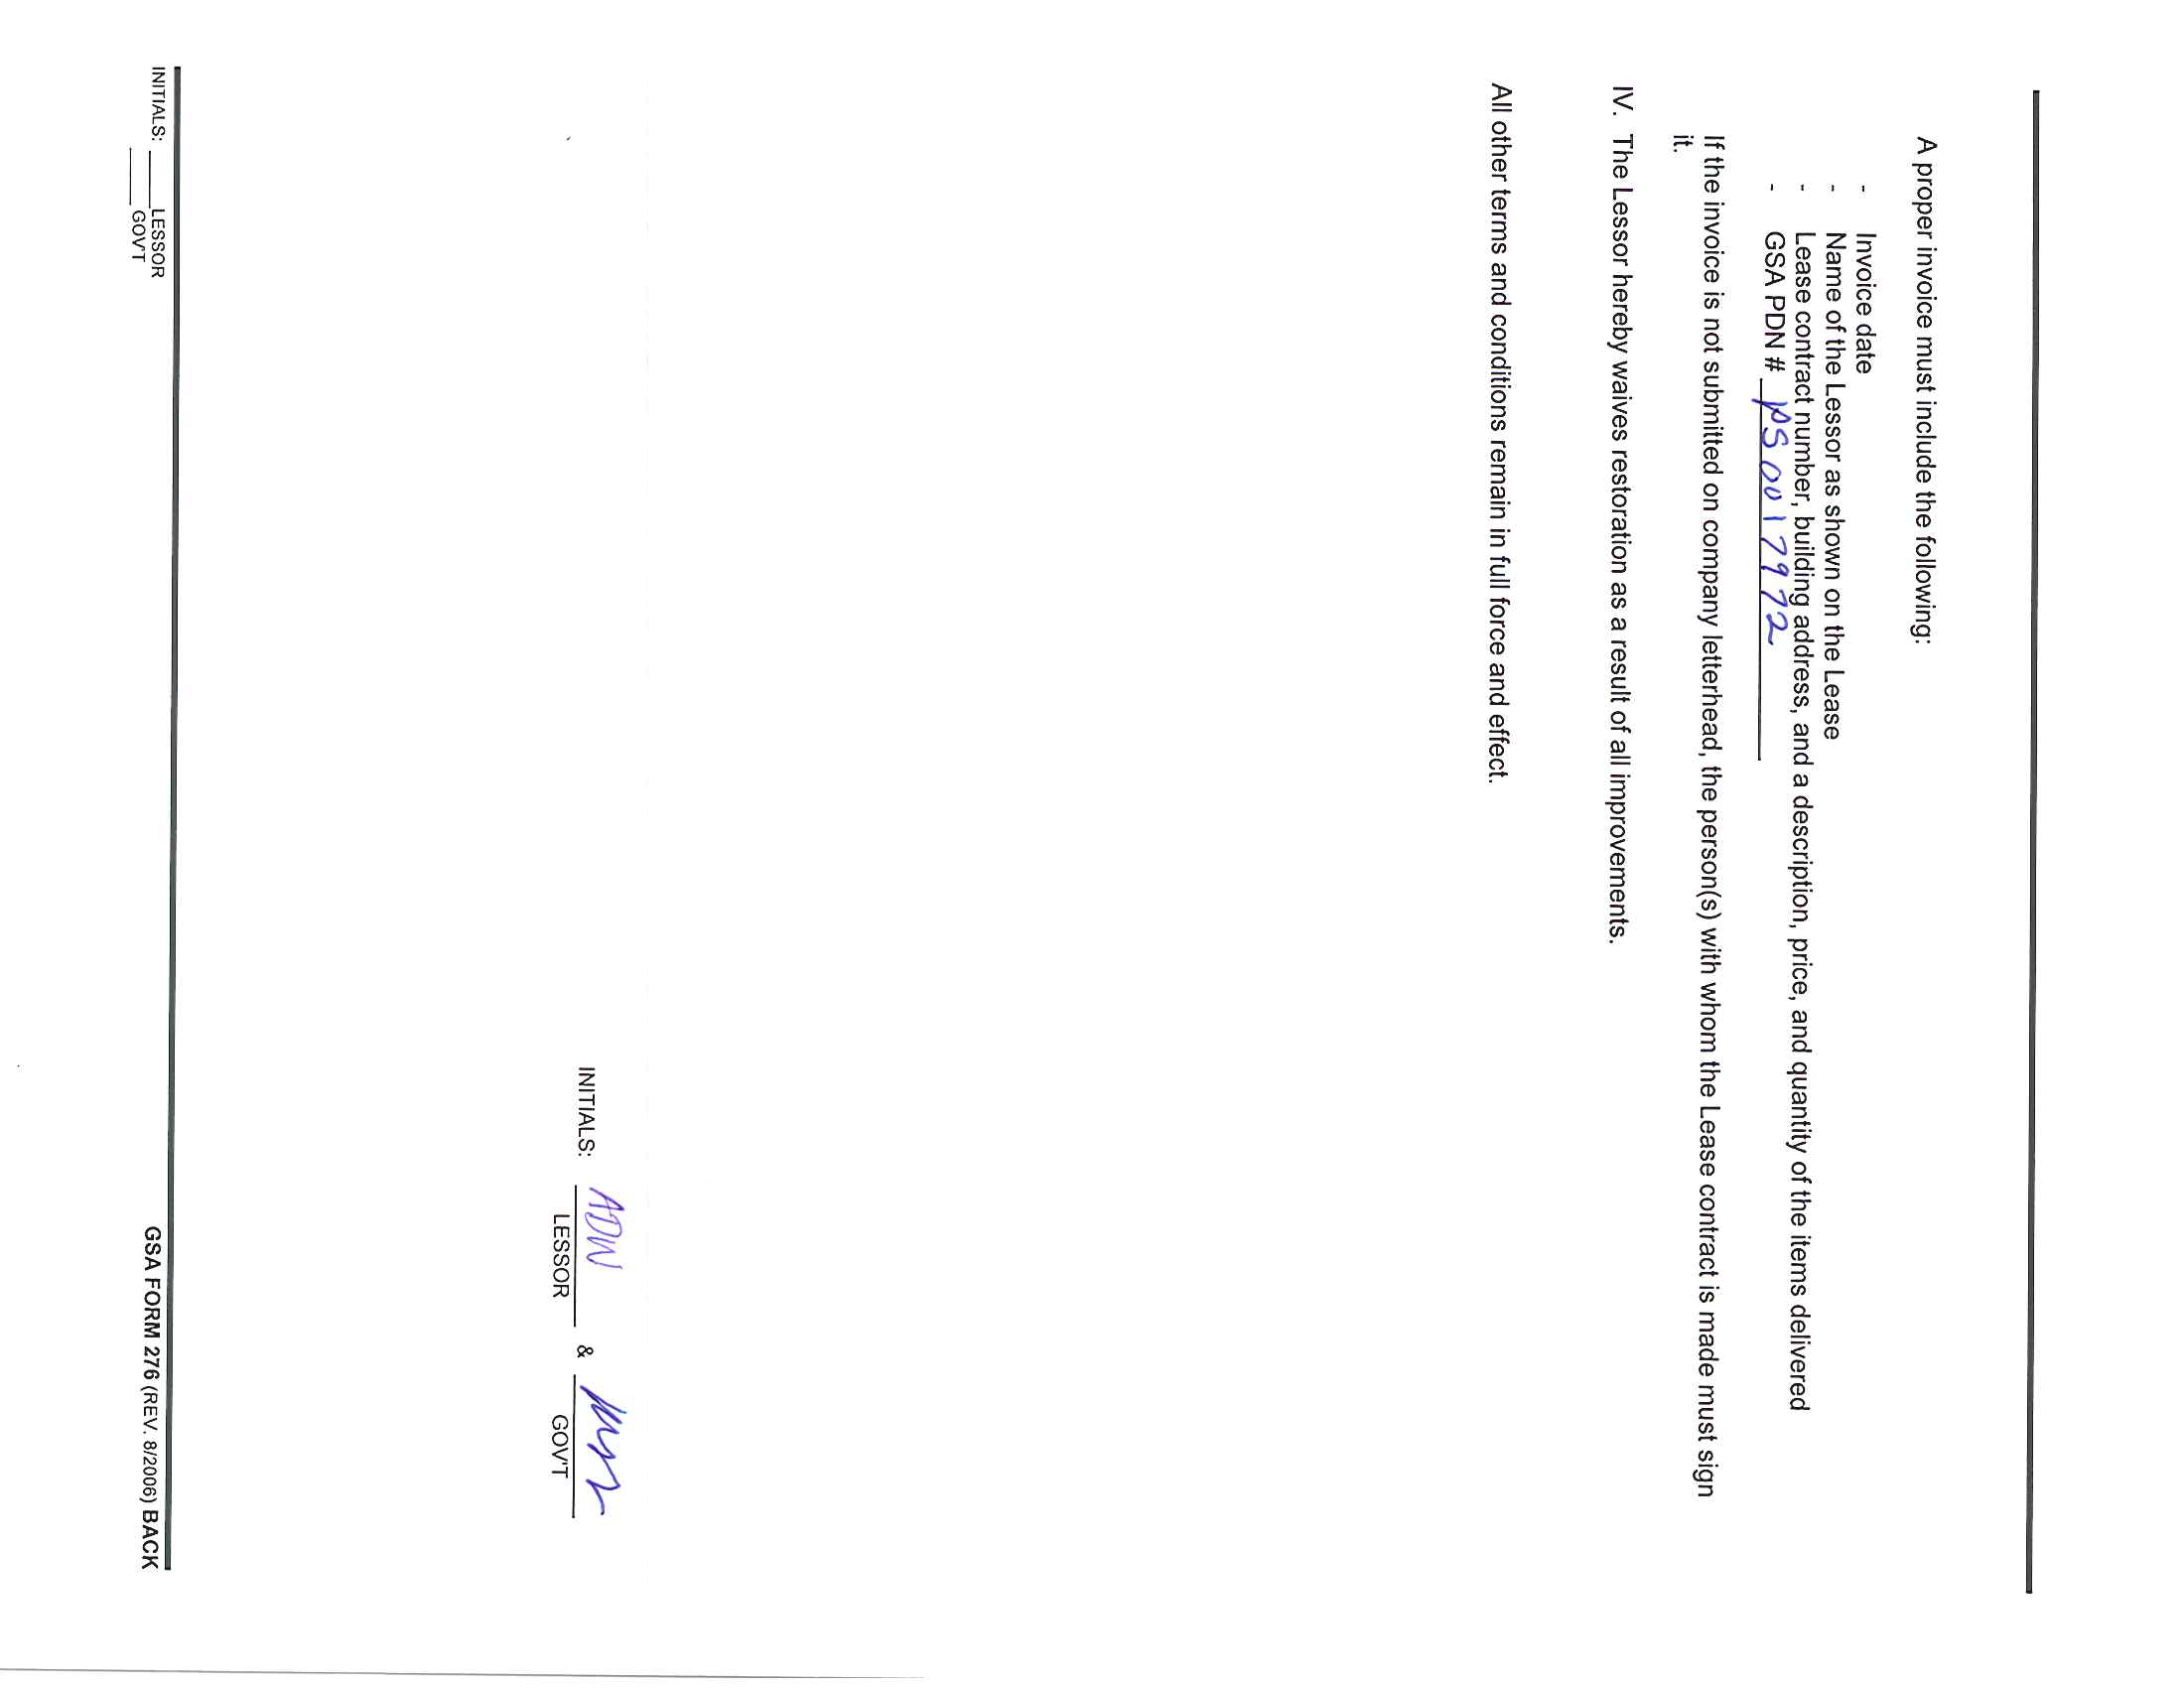handwritten: (1748, 387, 1787, 656), (578, 1381, 642, 1527), (581, 1183, 635, 1271)
